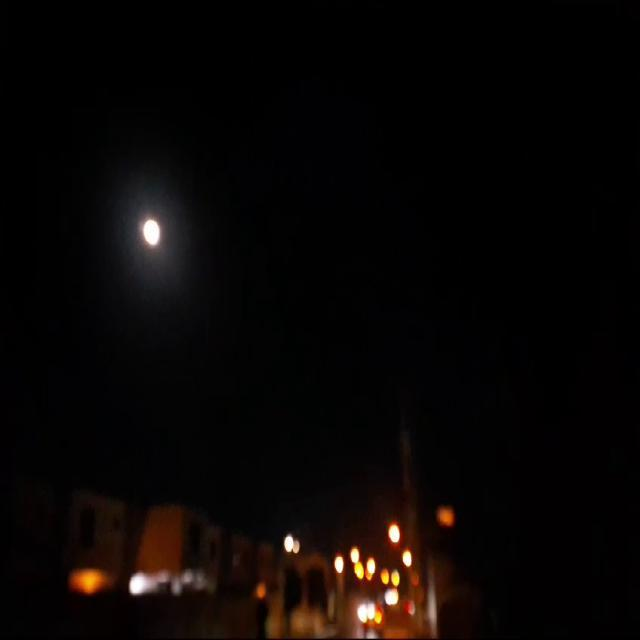moon: (144, 213, 165, 249)
